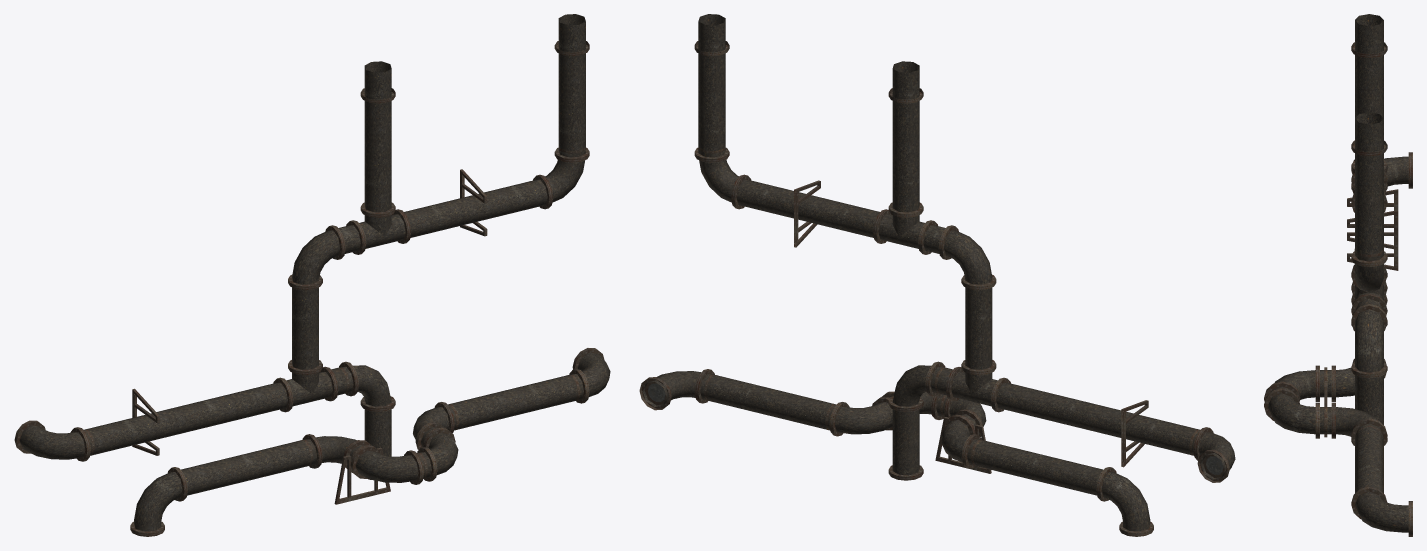
Rendered from SM_Corridor_Pipe_Set_Brown_C.fbx.
The picture shows the model from 3 angles, left to right: view 1: azimuth 30°, elevation 25°; view 2: azimuth 150°, elevation 25°; view 3: azimuth 270°, elevation 25°; orthographic projection. The views are drawn at different scales.
Parts seen in each view (by area): view 1: SM_Corridor_Pipe_Set_Brown_C; view 2: SM_Corridor_Pipe_Set_Brown_C; view 3: SM_Corridor_Pipe_Set_Brown_C.
Boxes of the visible parts, x1=… form: SM_Corridor_Pipe_Set_Brown_C: x1=14, y1=14, x2=610, y2=536; SM_Corridor_Pipe_Set_Brown_C: x1=639, y1=14, x2=1235, y2=536; SM_Corridor_Pipe_Set_Brown_C: x1=1264, y1=14, x2=1412, y2=536.
Size of the model in its own units: 485 by 320 by 102.
